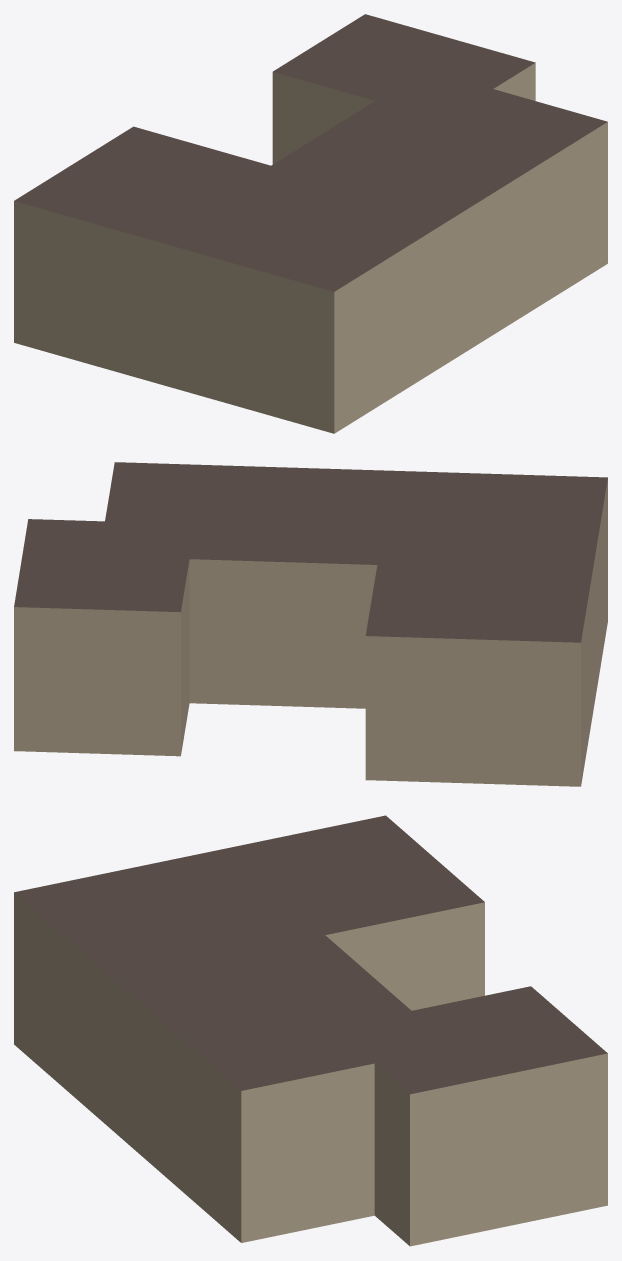
3 views of the same model, one above another, from view 1: azimuth 30°, elevation 25°; view 2: azimuth 150°, elevation 25°; view 3: azimuth 270°, elevation 25° (orthographic). The views are drawn at different scales.
Parts seen in each view (by area): view 1: HP-w369342445; view 2: HP-w369342445; view 3: HP-w369342445.
Part boxes in pixels (x1,y1,x2,y2): HP-w369342445: [14, 14, 607, 433]; HP-w369342445: [14, 462, 607, 786]; HP-w369342445: [14, 815, 607, 1246].
Size of the model in its own units: 35.38 by 9 by 31.84.
